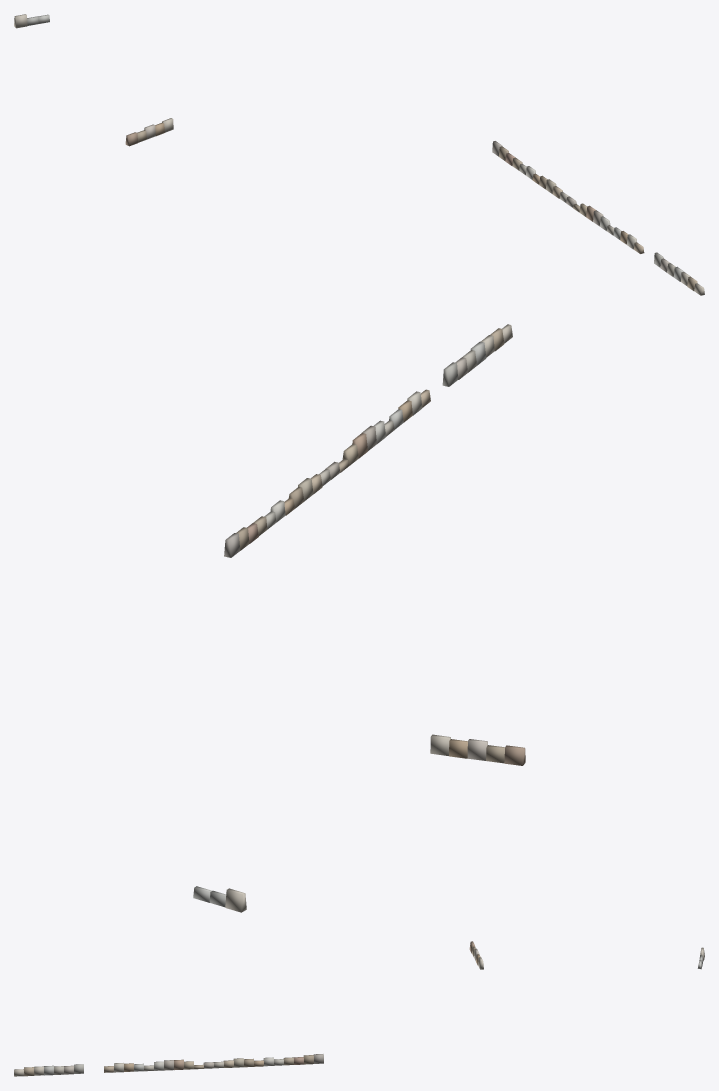
The model's file is farm_14_17_collision.glb.
3 views of the same model, one above another, from view 1: azimuth 30°, elevation 25°; view 2: azimuth 150°, elevation 25°; view 3: azimuth 270°, elevation 25° (orthographic). The views are drawn at different scales.
Visible parts, largest first — view 1: geometry_0; view 2: geometry_0; view 3: geometry_0.
Part boxes in pixels (x1,y1,x2,y2): geometry_0: (14, 14, 704, 295); geometry_0: (193, 324, 525, 912); geometry_0: (14, 941, 704, 1076).
Size of the model in its own units: 43.82 by 4.36 by 110.
